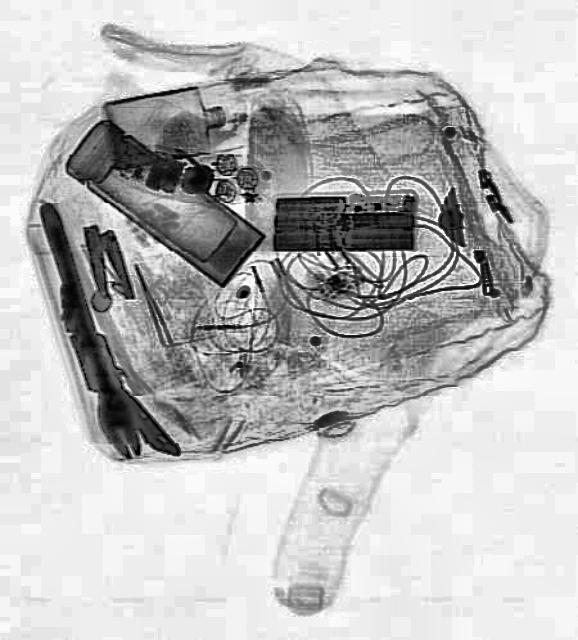Wrench: (24, 198, 144, 464)
